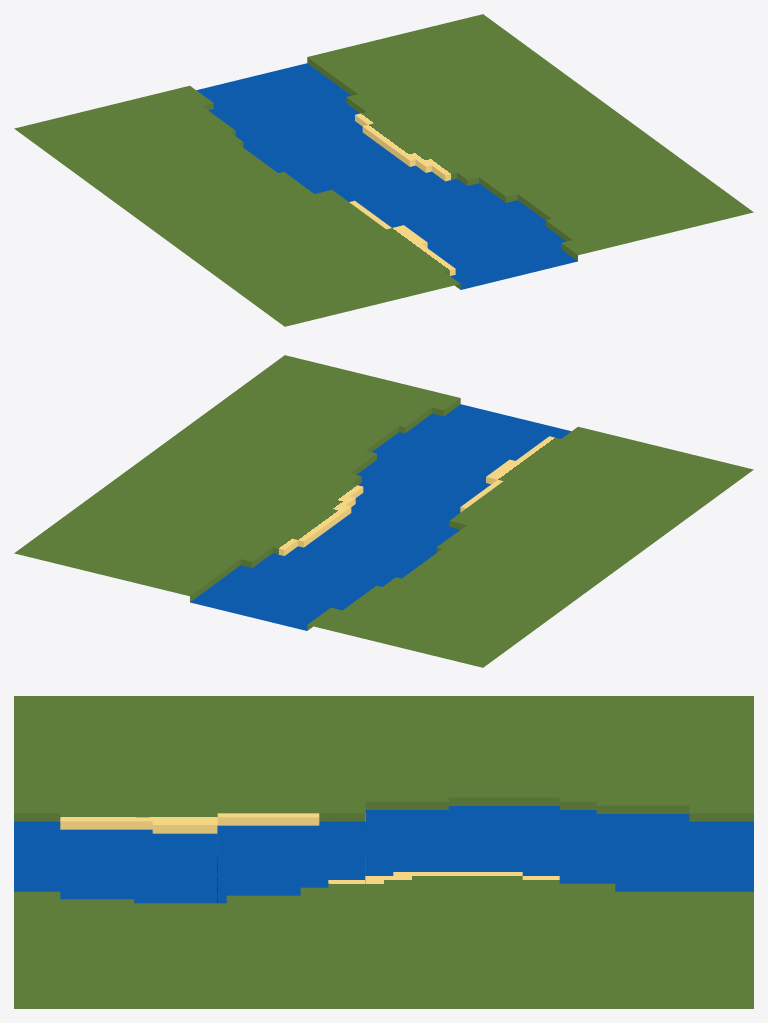
File: LLLLR92(2).glb
The picture shows the model from 3 angles, top to bottom: view 1: azimuth 30°, elevation 25°; view 2: azimuth 150°, elevation 25°; view 3: azimuth 270°, elevation 25°; orthographic projection. The views are drawn at different scales.
Visible parts, largest first — view 1: model_0.035; view 2: model_0.035; view 3: model_0.035.
Boxes of the visible parts, x1,y1,x2,y2 form: model_0.035: [14, 14, 753, 326]; model_0.035: [14, 355, 753, 667]; model_0.035: [14, 696, 753, 1008].
Bounding box in the file's own units: 80 × 1 × 80.
Materials: 1 (1 with a texture image).
